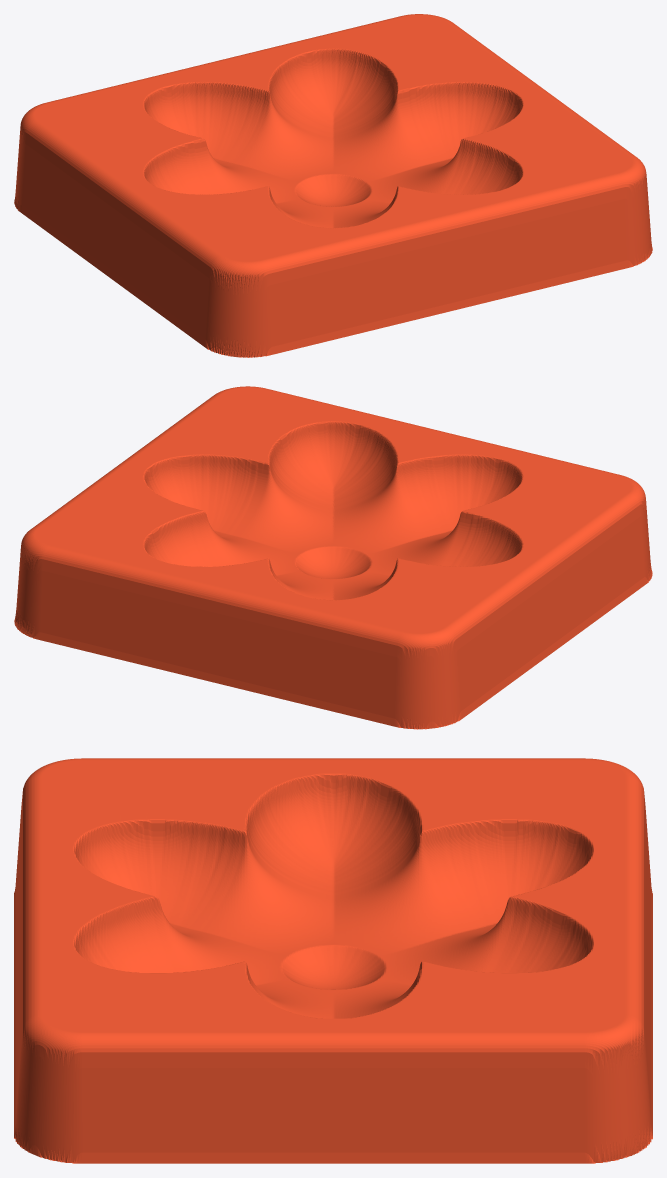
File: mold.glb
The picture shows the model from 3 angles, top to bottom: view 1: azimuth 30°, elevation 25°; view 2: azimuth 150°, elevation 25°; view 3: azimuth 270°, elevation 25°; orthographic projection. The views are drawn at different scales.
Parts seen in each view (by area): view 1: geometry_0; view 2: geometry_0; view 3: geometry_0.
Part boxes in pixels (left/top/right/bottom): geometry_0: left=14, top=14, right=652, bottom=357; geometry_0: left=14, top=386, right=652, bottom=729; geometry_0: left=14, top=758, right=652, bottom=1163.
Size of the model in its own units: 0.0924 by 0.0175 by 0.0846.
